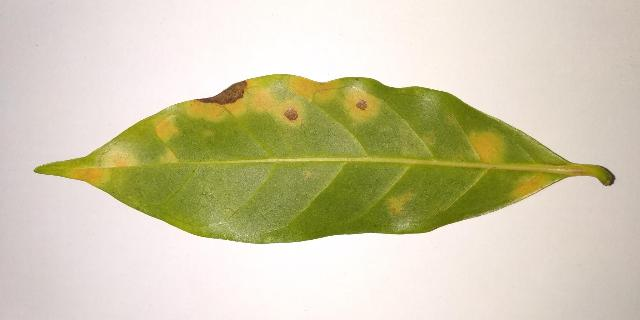miner: (187, 75, 338, 126), (67, 143, 138, 188), (469, 132, 504, 165), (346, 88, 379, 119), (513, 174, 546, 197), (154, 115, 178, 140), (388, 192, 411, 215), (162, 150, 178, 163)
